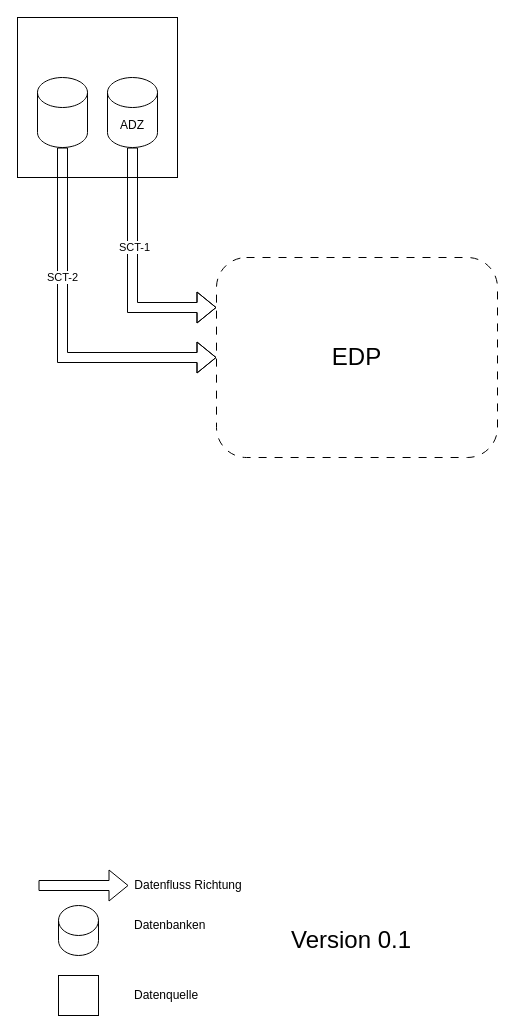
Some shapes in this 515 by 1033 pixel diagram are drawn without their labels. Here are the shapes that lost their labels. From the top down, the box of each, then its label:
(36, 76, 88, 148): AREX
(16, 16, 178, 178): AGIS
